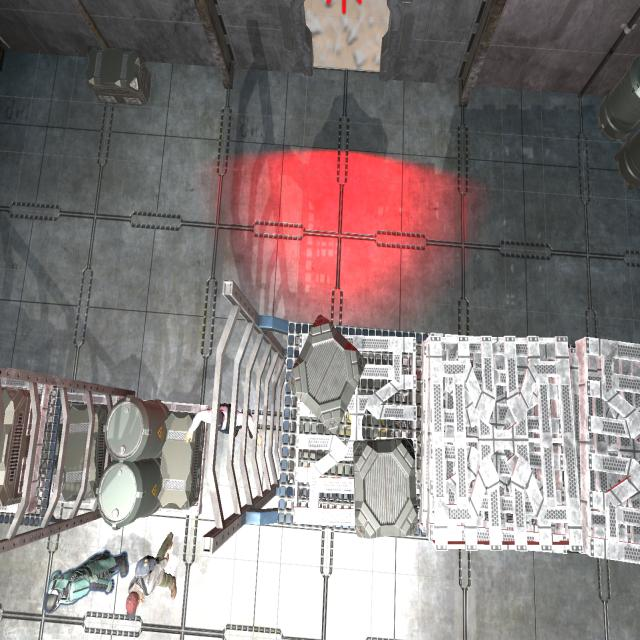thiefs: (122, 530, 181, 624)
